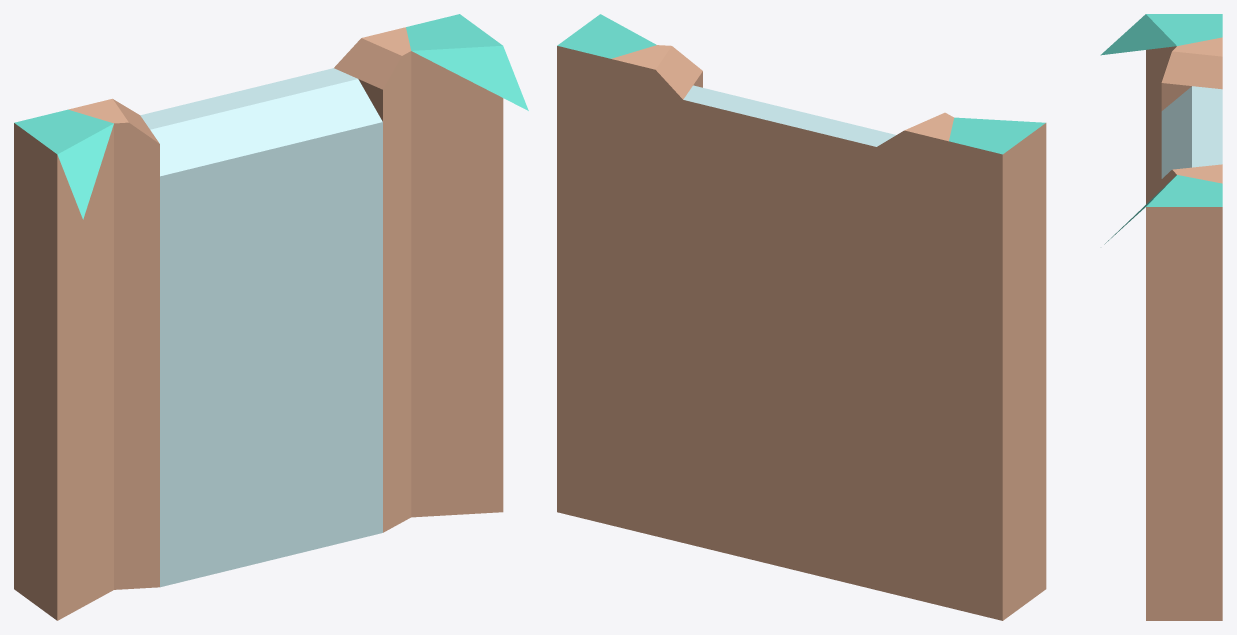
The model's file is cliff_waterfallTop_rock.gltf.
3 renders of one model, left to right at view 1: azimuth 30°, elevation 25°; view 2: azimuth 150°, elevation 25°; view 3: azimuth 270°, elevation 25°, orthographic. The views are drawn at different scales.
Parts seen in each view (by area): view 1: cliff_waterfallTop_rock; view 2: cliff_waterfallTop_rock; view 3: cliff_waterfallTop_rock.
Boxes of the visible parts, x1,y1,x2,y2 form: cliff_waterfallTop_rock: (14,14,528,620); cliff_waterfallTop_rock: (557,14,1046,620); cliff_waterfallTop_rock: (1100,14,1222,620).
Size of the model in its own units: 1 by 1 by 0.2685.
